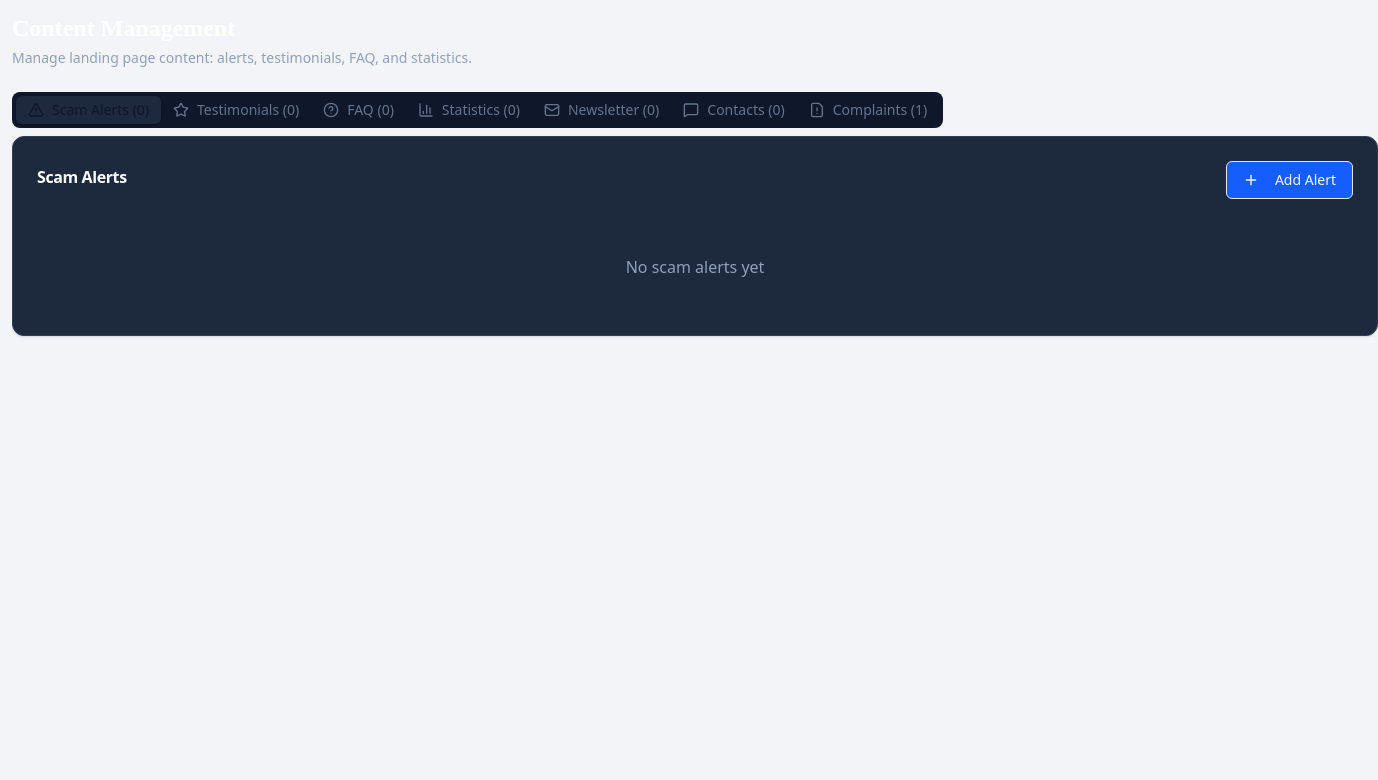
Test: ContentManagement – complaint admin notes editor › shows the clear button when adminNotes is non-empty
This screenshot has width=1378, height=780.
Click the tab with test id "content-tab-complaints": coordinates (868, 110) [797,96,939,124]
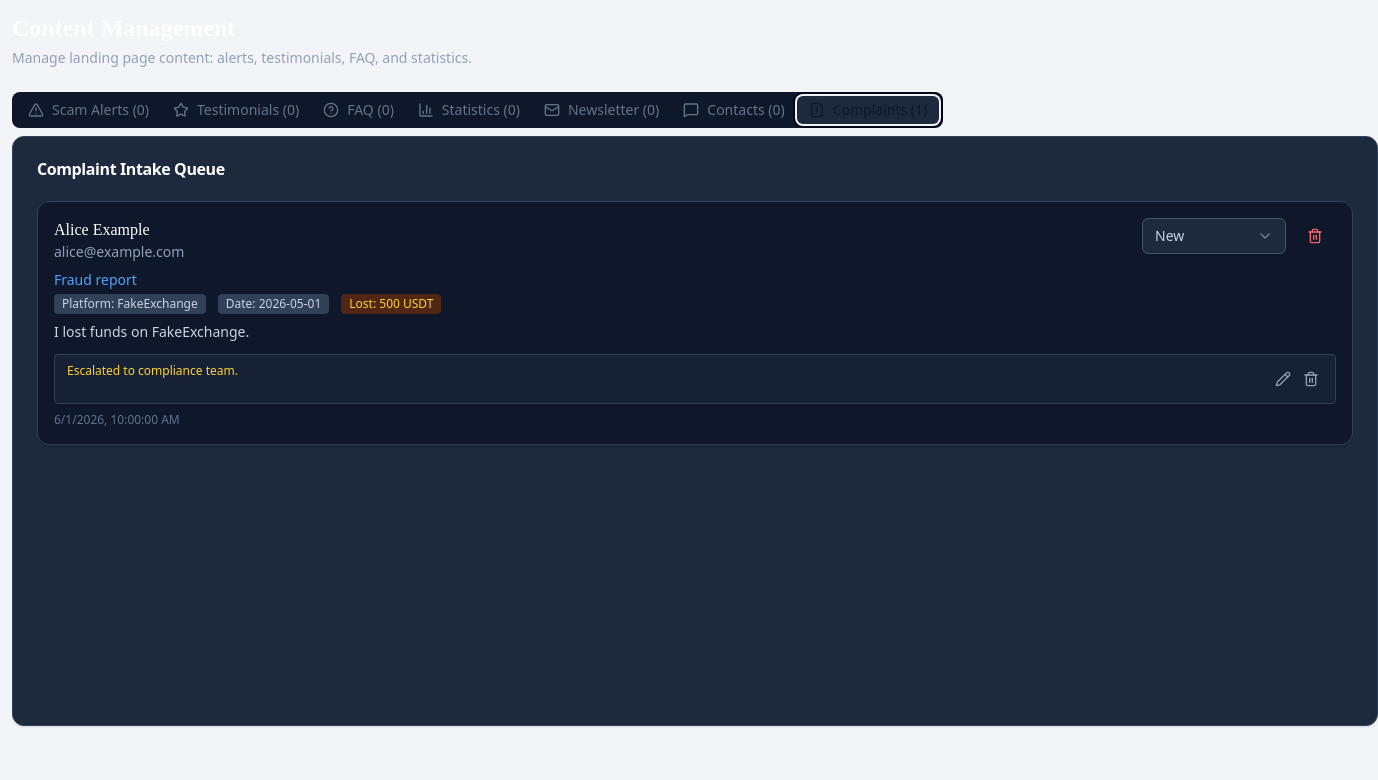
Check: the text with test id "notes-display-1" reads "Escalated to compliance team.", box [67,362,238,379]
